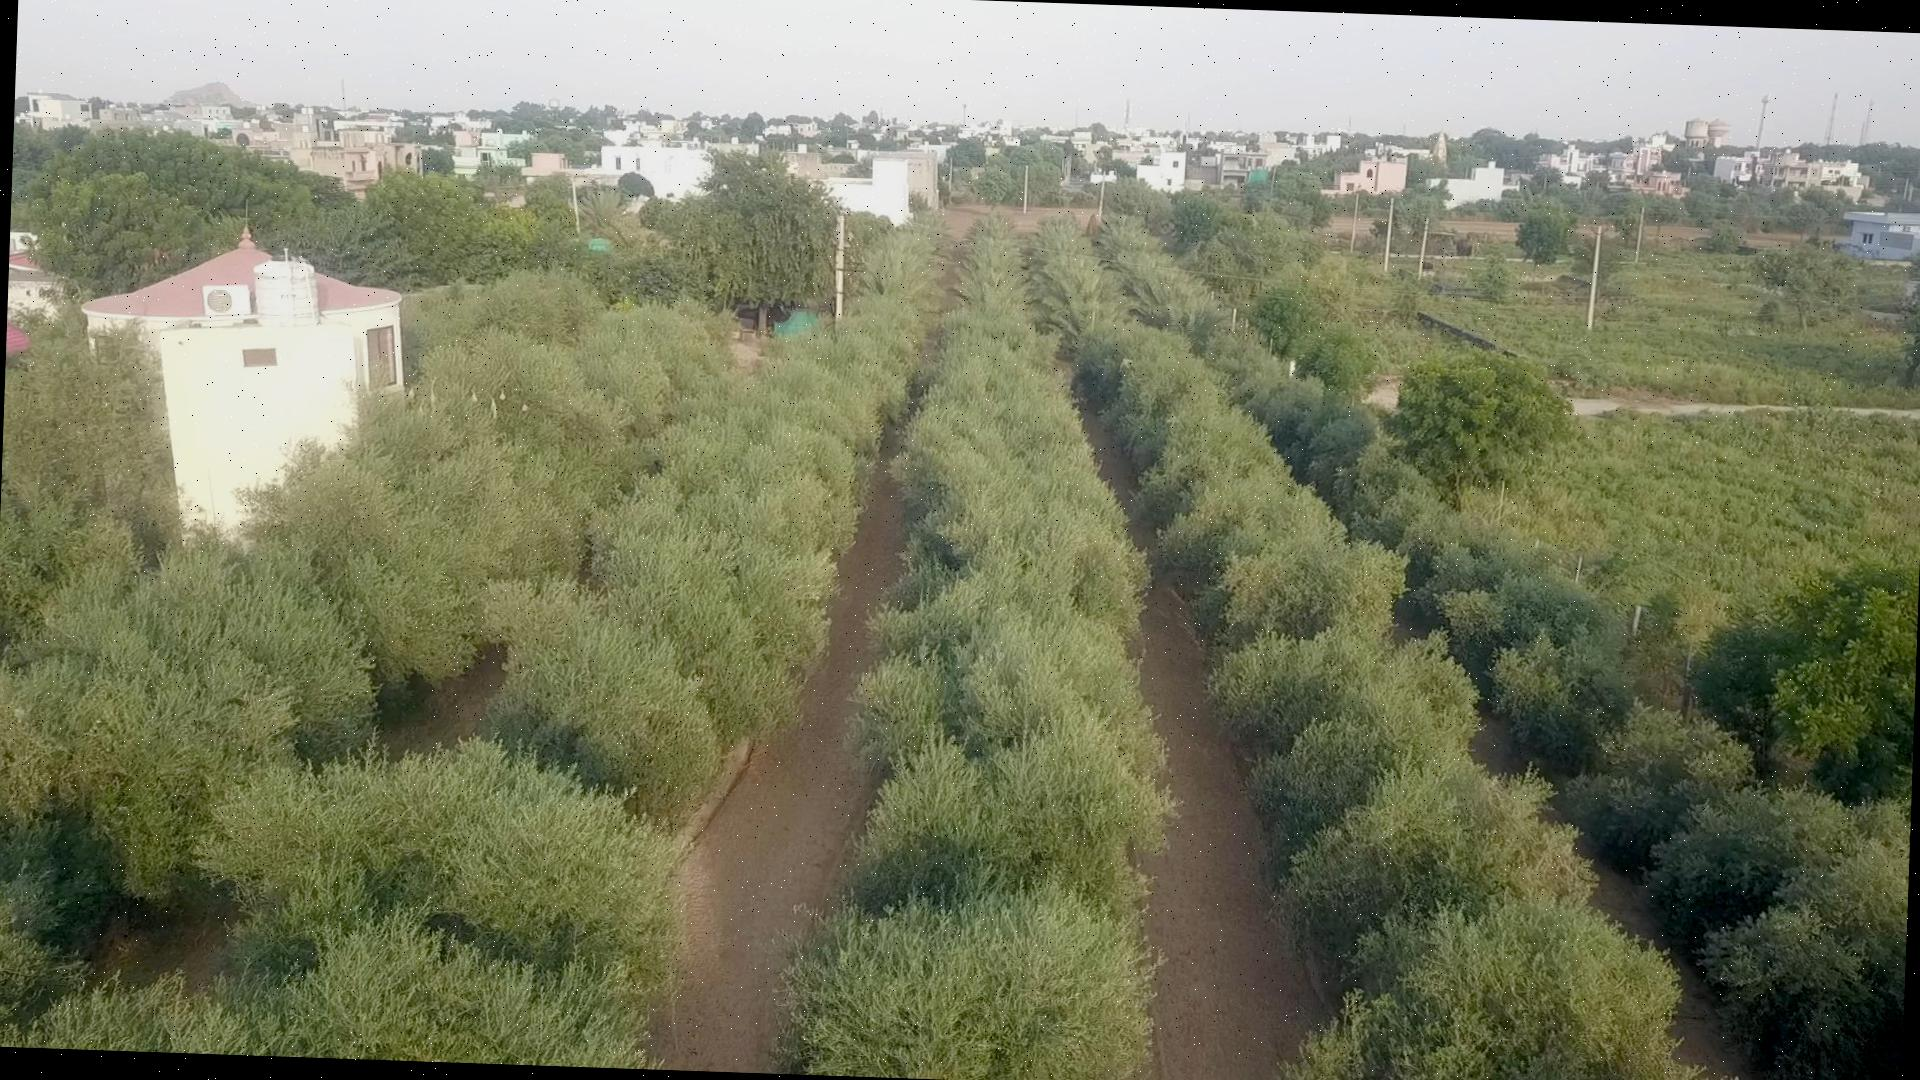canopy: (200, 235, 927, 1067), (1073, 320, 1718, 1080), (1232, 364, 1911, 1080), (0, 274, 732, 901), (775, 302, 1172, 1080)
road: (653, 460, 907, 1072), (1130, 567, 1340, 1080), (1578, 837, 1759, 1080)
